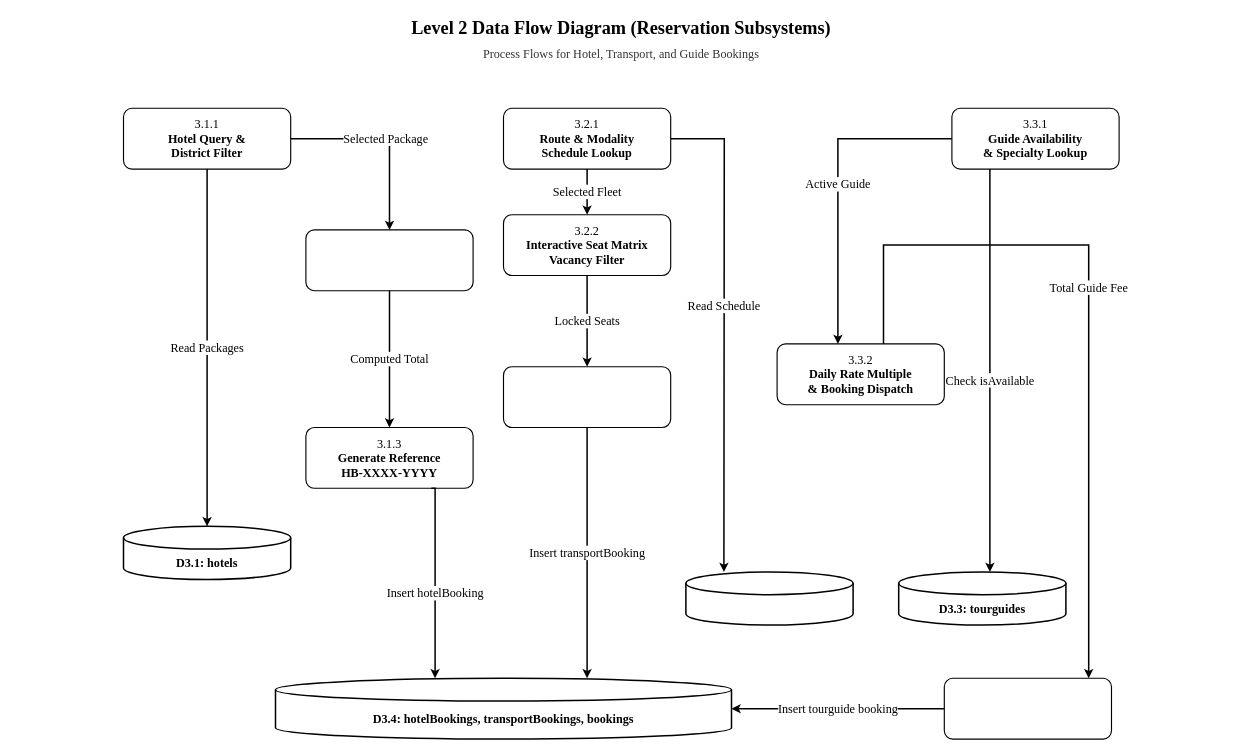
Some shapes in this 1242 by 752 pixel diagram are drawn without their labels. The shapes that lost their labels are listed below. From the top down, each one's centre as x and y in pixels, then its label:
the point at 389,260: 3.1.2 Room Package & Price Calculation
the point at 587,397: 3.2.3 Generate PNR Ticket TB-XXXX-YYYY
the point at 769,598: D3.2: transportations
the point at 1027,708: 3.3.3 Generate Reference TGB-XXXX-YYYY
